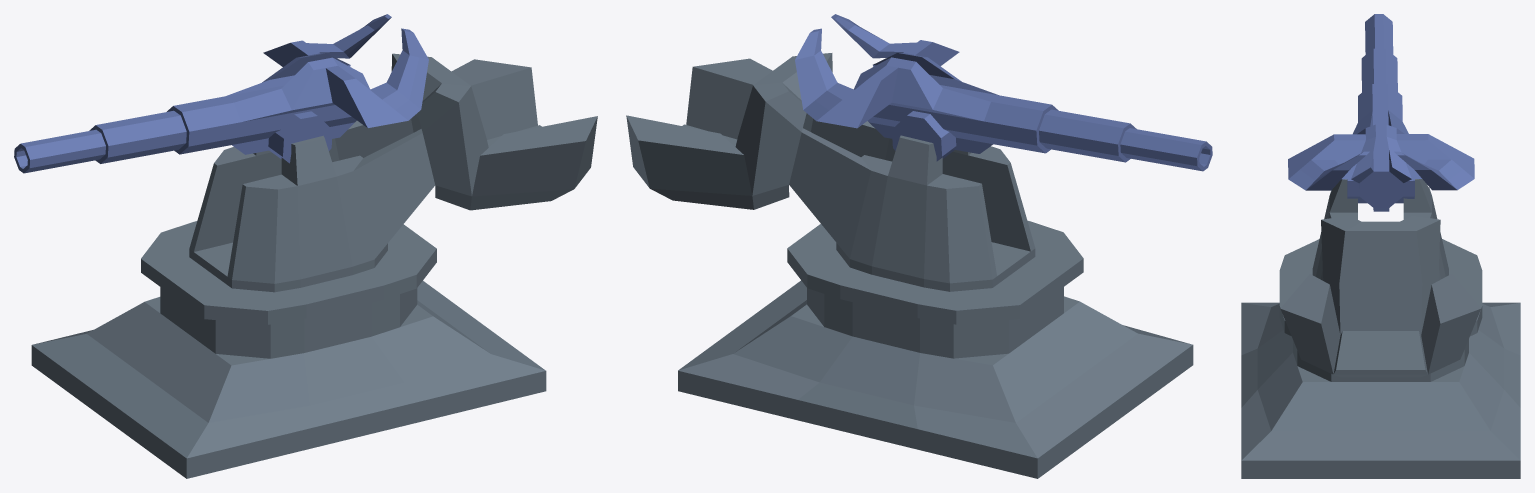
The model's file is turretFFFF.fbx.
3 views of the same model, side by side, from view 1: azimuth 30°, elevation 25°; view 2: azimuth 150°, elevation 25°; view 3: azimuth 270°, elevation 25° (orthographic). The views are drawn at different scales.
Parts seen in each view (by area): view 1: Base, Rotating, Cube.002, Cube.001; view 2: Base, Rotating, Cube.002, Cube.001; view 3: Base, Rotating, Cube.002, Cube.001.
Part boxes in pixels (bbox=[...]): Base: bbox=[31, 221, 546, 478]; Rotating: bbox=[189, 53, 597, 292]; Cube.002: bbox=[14, 14, 428, 173]; Cube.001: bbox=[268, 111, 332, 163]; Base: bbox=[678, 220, 1193, 478]; Rotating: bbox=[626, 53, 1035, 291]; Cube.002: bbox=[795, 14, 1212, 171]; Cube.001: bbox=[892, 111, 956, 161]; Base: bbox=[1241, 239, 1520, 478]; Rotating: bbox=[1280, 179, 1480, 377]; Cube.002: bbox=[1288, 14, 1474, 211]; Cube.001: bbox=[1347, 179, 1414, 203].
Size of the model in its own units: 303 by 175 by 150.
